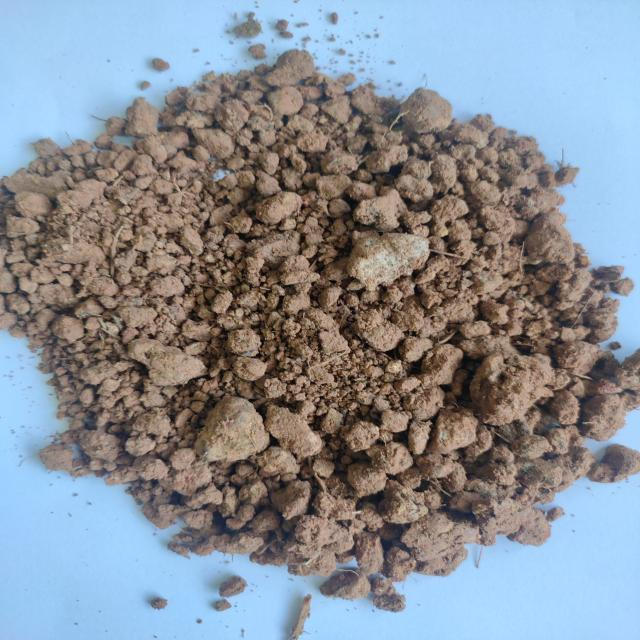soil: (83, 156, 550, 485)
